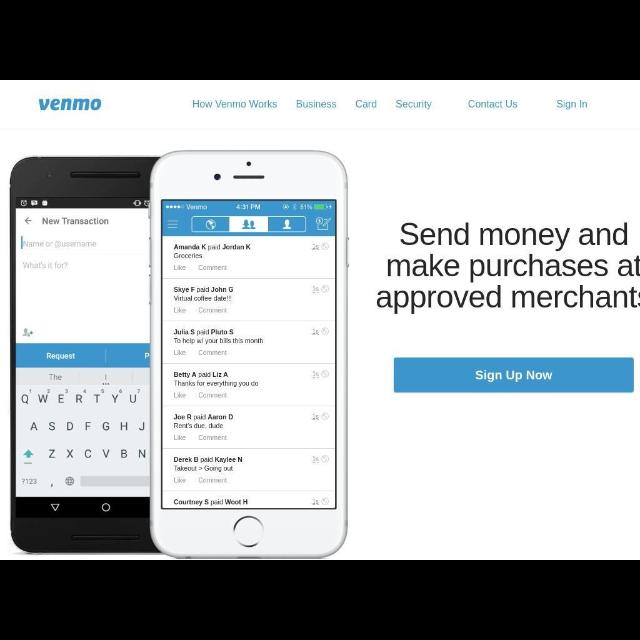backgroundimage: (1, 129, 634, 559)
image: (38, 96, 100, 110)
text: (376, 223, 640, 309), (194, 100, 278, 110), (297, 100, 337, 110), (468, 100, 518, 108), (396, 100, 432, 110), (556, 100, 588, 110), (357, 100, 378, 110)
textbutton: (396, 360, 634, 392)
